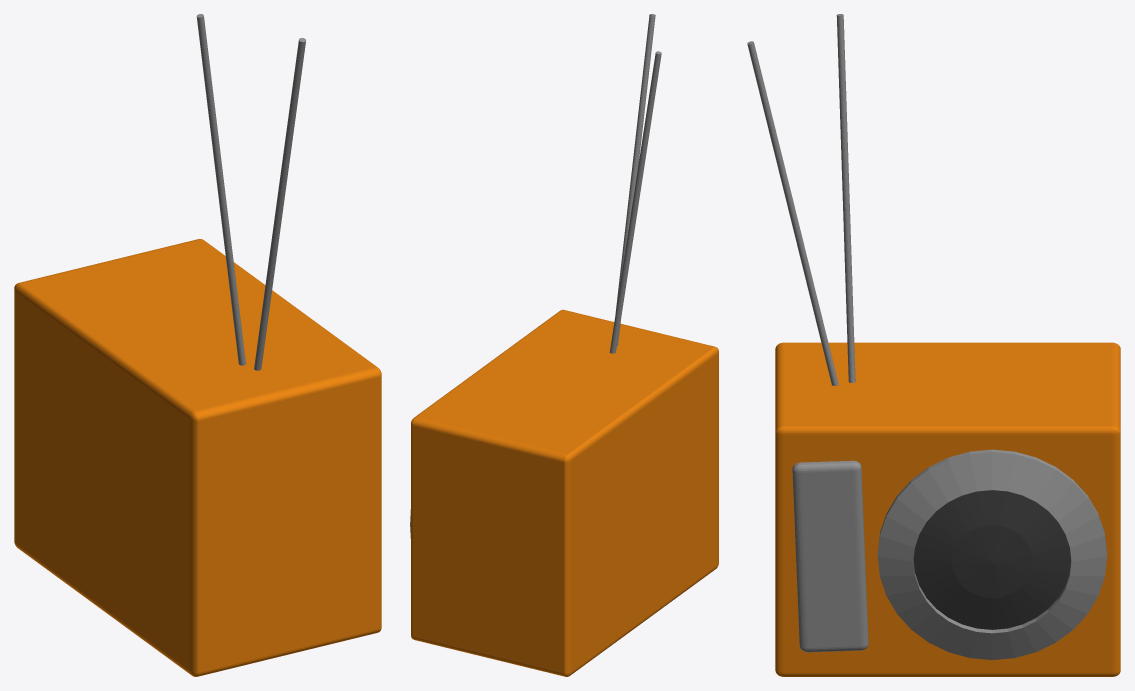
Rendered from radio.fbx.
3 views of the same model, side by side, from view 1: azimuth 30°, elevation 25°; view 2: azimuth 150°, elevation 25°; view 3: azimuth 270°, elevation 25° (orthographic). The views are drawn at different scales.
Parts seen in each view (by area): view 1: radio; view 2: radio; view 3: radio.
Boxes of the visible parts, left/top/right/bottom form: radio: left=14, top=14, right=381, bottom=676; radio: left=410, top=14, right=718, bottom=676; radio: left=747, top=14, right=1120, bottom=676.
Bounding box in the file's own units: 66.36 × 190 × 108.
